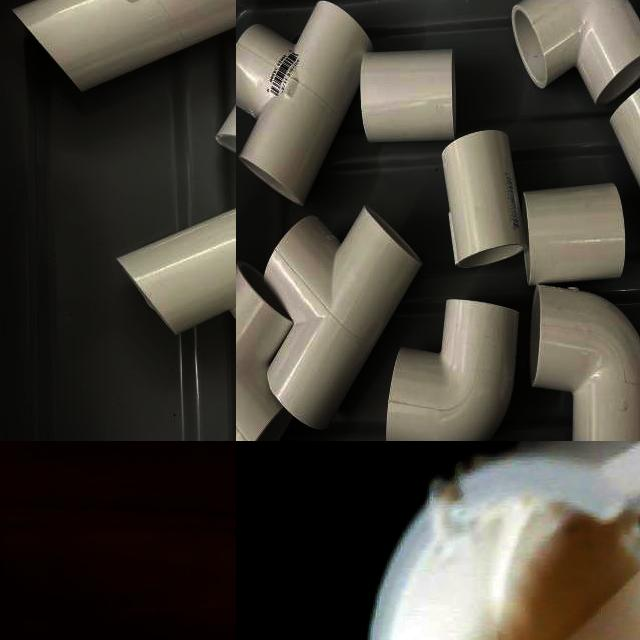Defective: (480, 488, 550, 570)
L Joint: (386, 300, 523, 441), (530, 285, 640, 441), (509, 0, 640, 107), (236, 262, 293, 441)
T Joint: (264, 206, 423, 433), (236, 1, 374, 207), (116, 207, 236, 337)
